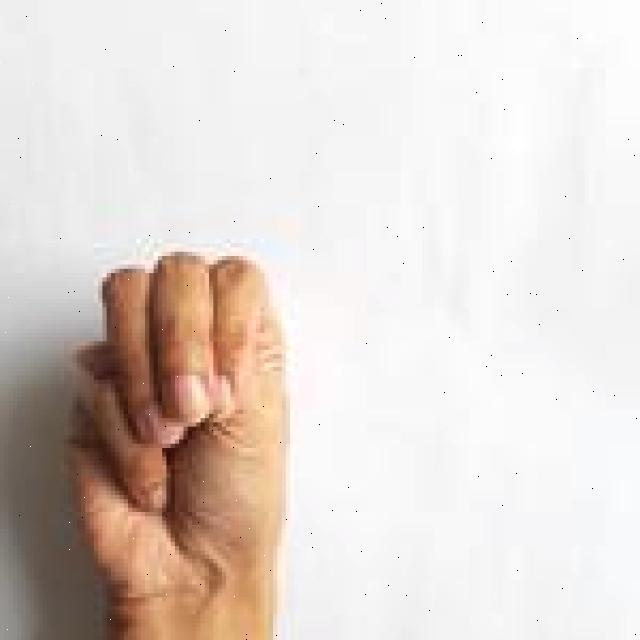M: (49, 246, 300, 640)
